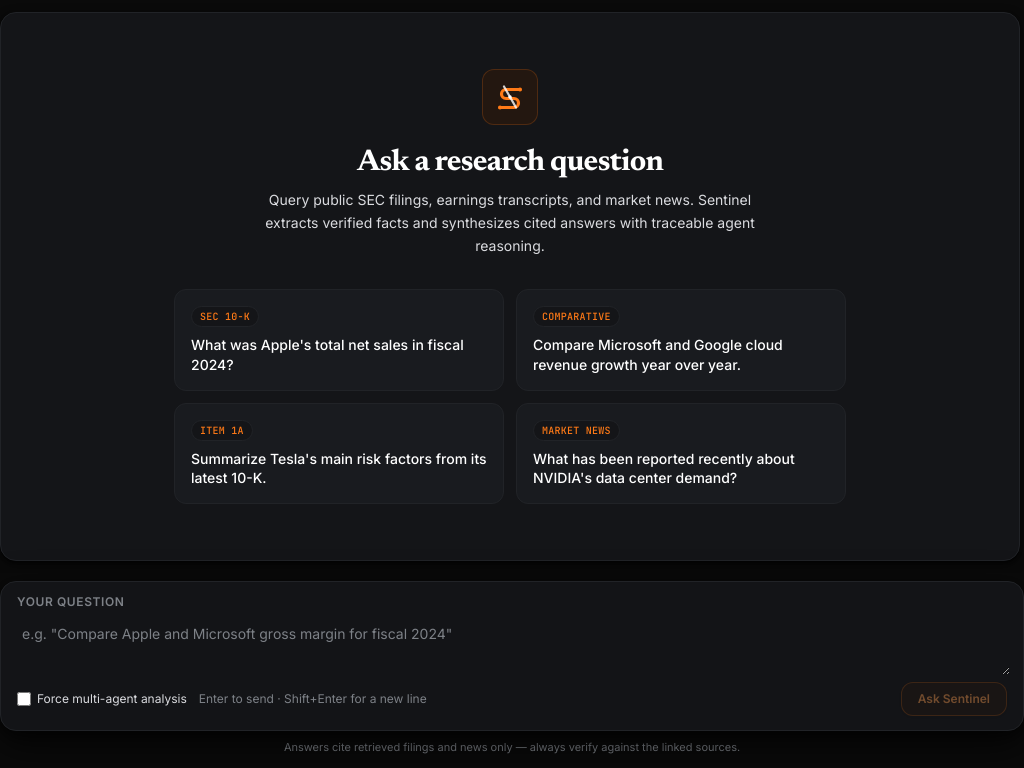
it: empty state › offers example research questions that load into the input
expect the heading "Ask a research question" is shown: met, box [357,148,663,178]
Click the button "SEC 10-K What was Apple's total net sales in fiscal 2024?".
click(339, 340)  # box [174,289,504,391]
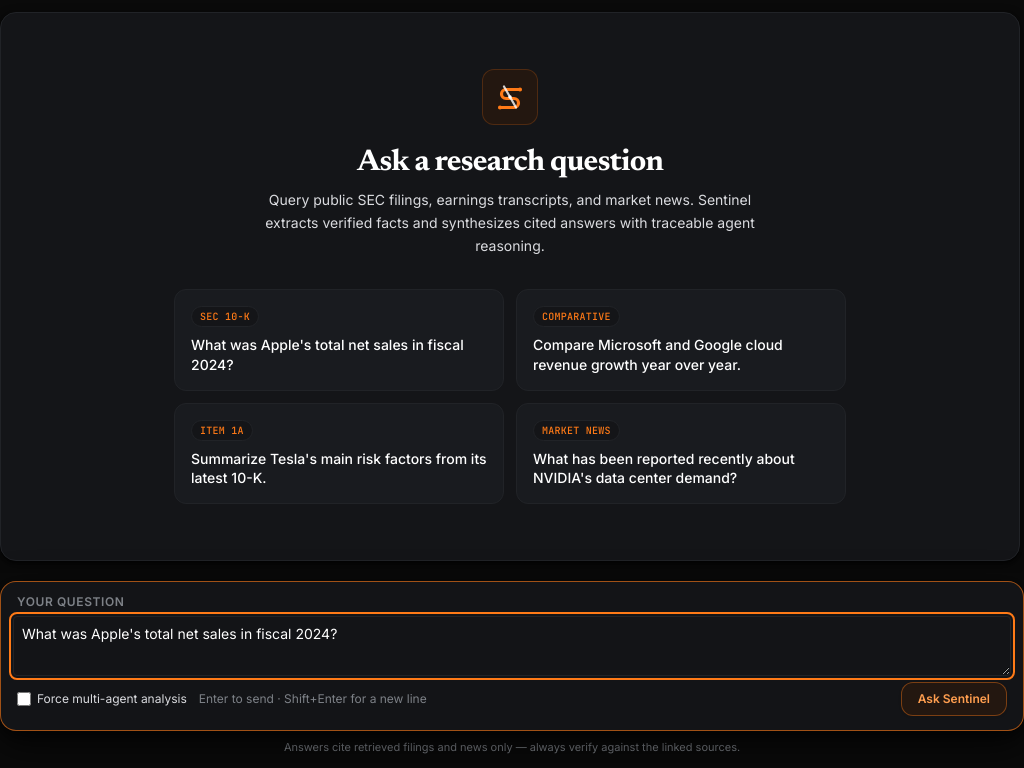
expect the text box labelled "Your question" holds "What was Apple's total net sales in fiscal 2024?": met, box [13,616,1011,676]
